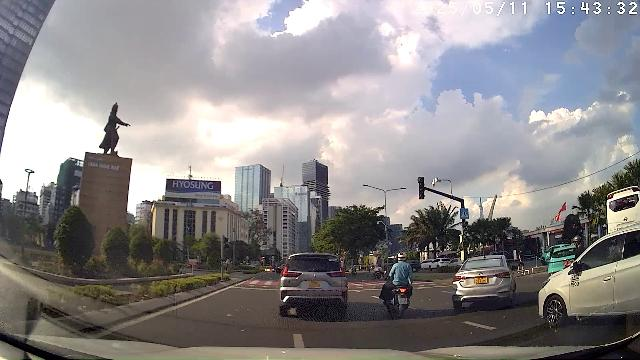423a-duong-nguoi-di-bo-sang-ngang-1: (460, 208, 470, 218)
